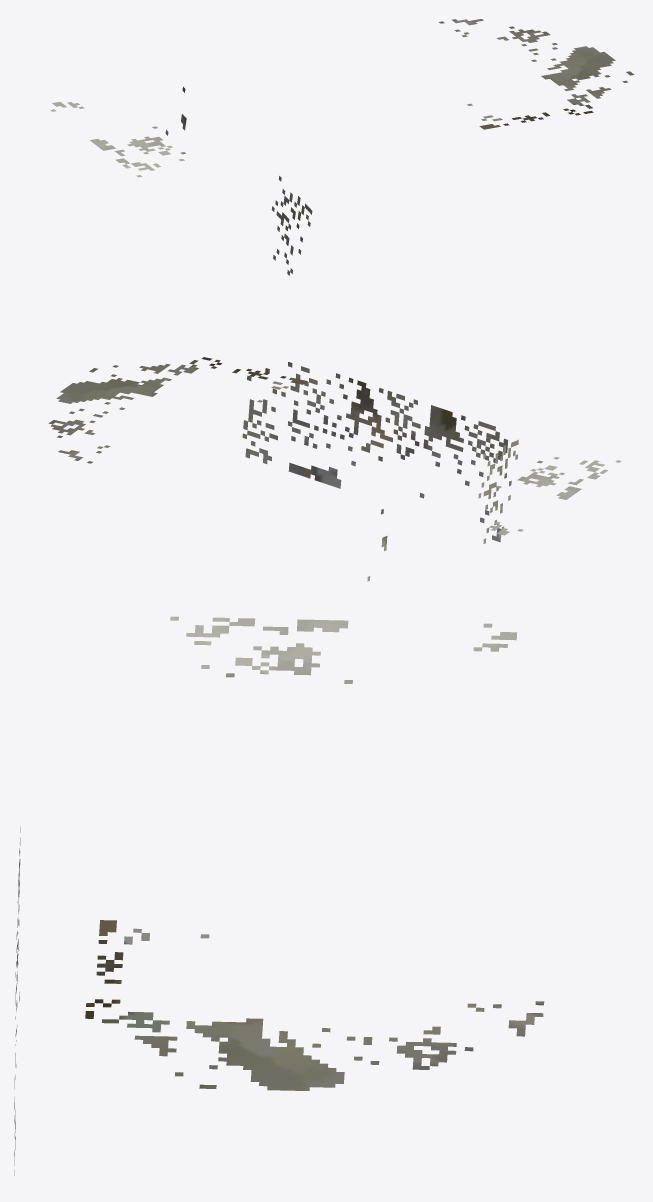
The model's file is INFERRED-planar-only.glb.
The picture shows the model from 3 angles, top to bottom: view 1: azimuth 30°, elevation 25°; view 2: azimuth 150°, elevation 25°; view 3: azimuth 270°, elevation 25°; orthographic projection. The views are drawn at different scales.
Parts seen in each view (by area): view 1: world; view 2: world; view 3: world.
Boxes of the visible parts, <box> form: world: <box>50,19,634,275</box>; world: <box>48,357,621,581</box>; world: <box>14,616,544,1175</box>.
Bounding box in the file's own units: 9.05 × 2.38 × 5.16.
